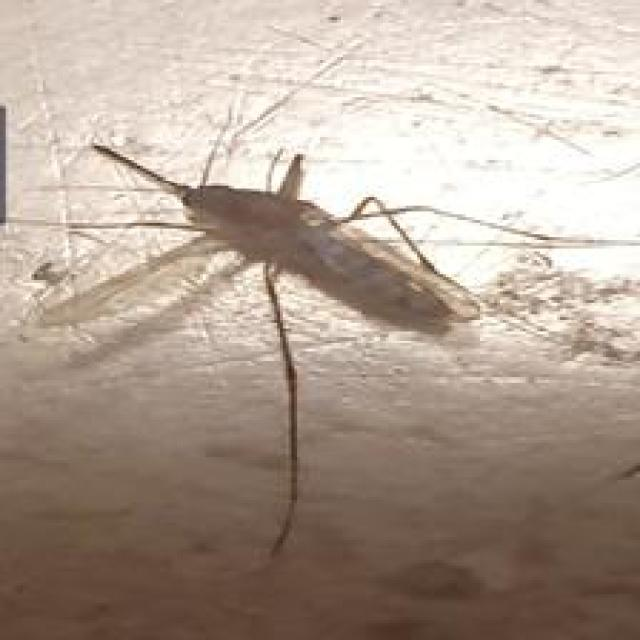Culex: (0, 131, 640, 560)
